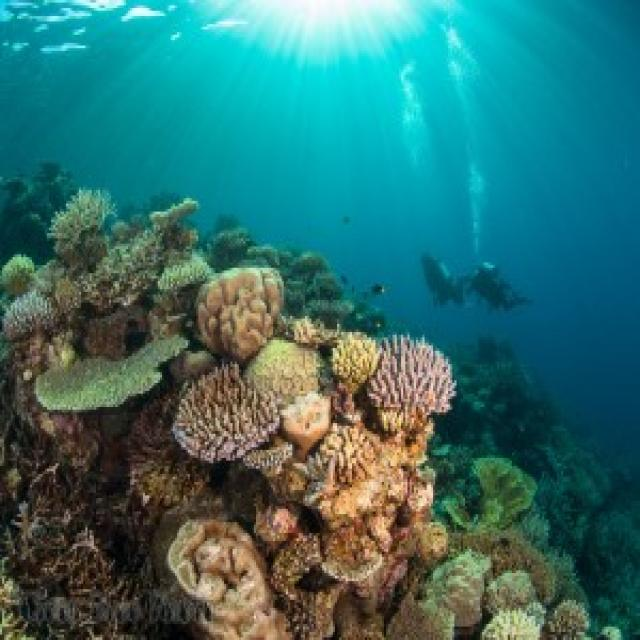Healthy: (3, 202, 208, 341), (291, 413, 430, 577), (7, 462, 127, 612), (170, 520, 291, 638), (387, 523, 490, 638), (37, 336, 187, 411), (172, 363, 280, 462), (129, 392, 206, 523), (197, 269, 283, 360), (270, 529, 342, 636), (451, 534, 554, 601), (366, 338, 455, 408), (244, 338, 323, 403), (50, 188, 114, 258), (481, 571, 545, 638), (475, 459, 536, 529), (280, 397, 332, 456), (332, 333, 379, 392), (244, 440, 291, 475)
